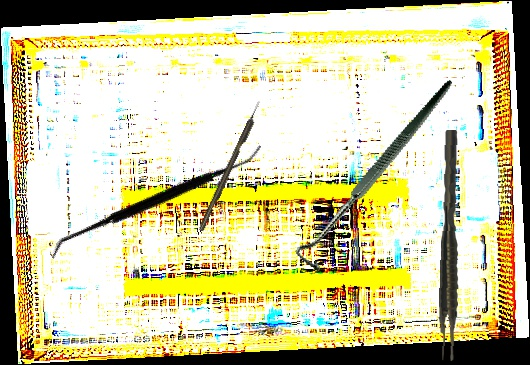Hook Surgical: (257, 78, 500, 278), (197, 100, 264, 232)
Spatula Surgical: (48, 81, 265, 323)
Tissue Forceps: (436, 129, 465, 362)
